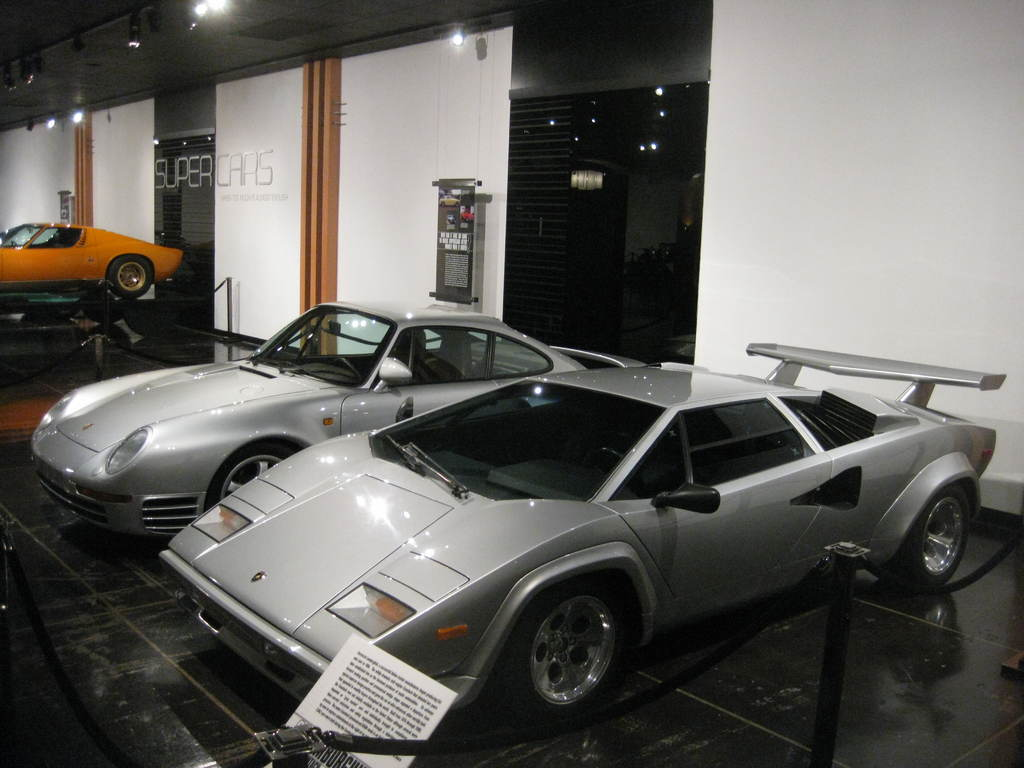mobil: (163, 337, 1012, 710), (42, 294, 629, 530)
